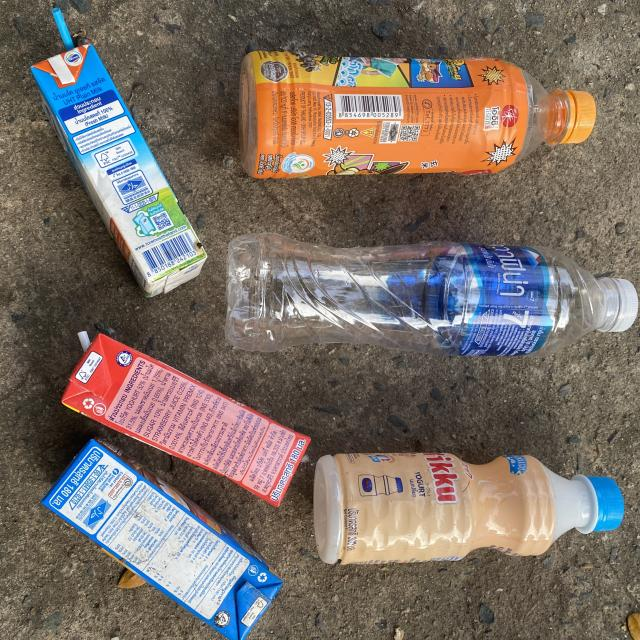plastik: (226, 234, 638, 356), (42, 438, 282, 640), (239, 51, 596, 178), (32, 45, 206, 296), (62, 334, 309, 506), (313, 453, 624, 563)
